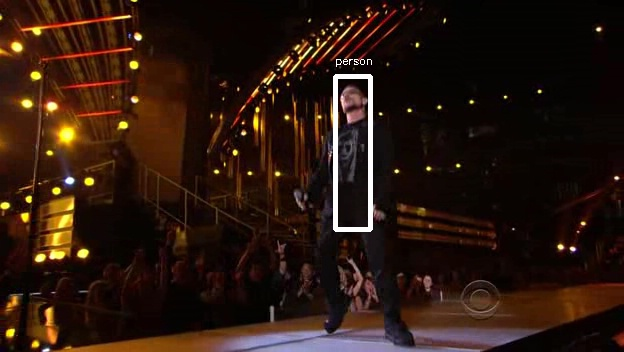person: (314, 84, 384, 230), (311, 84, 381, 230), (317, 84, 387, 230), (314, 81, 384, 227), (314, 87, 384, 233)
target_negative: (135, 144, 576, 243), (449, 155, 554, 317), (349, 249, 562, 312), (497, 135, 574, 255), (299, 296, 612, 322), (608, 226, 610, 343)
